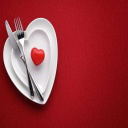fork: (10, 16, 34, 97)
